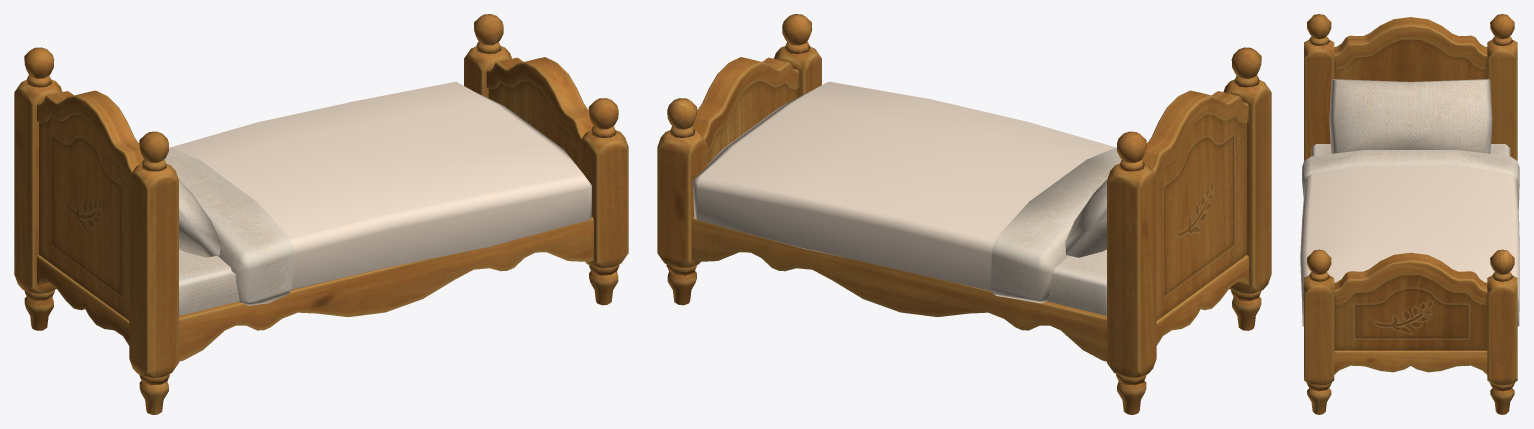
Rendered from home-bed.glb.
3 views of the same model, side by side, from view 1: azimuth 30°, elevation 25°; view 2: azimuth 150°, elevation 25°; view 3: azimuth 270°, elevation 25° (orthographic). The views are drawn at different scales.
Visible parts, largest first — view 1: BedFrameBottom_low__mReBody-mesh, ComforterBody_low__mReFabric-mesh; view 2: BedFrameBottom_low__mReBody-mesh, ComforterBody_low__mReFabric-mesh; view 3: BedFrameBottom_low__mReBody-mesh, ComforterBody_low__mReFabric-mesh.
Boxes of the visible parts, x1=… form: BedFrameBottom_low__mReBody-mesh: x1=14, y1=14, x2=628, y2=414; ComforterBody_low__mReFabric-mesh: x1=170, y1=81, x2=591, y2=289; BedFrameBottom_low__mReBody-mesh: x1=657, y1=14, x2=1271, y2=414; ComforterBody_low__mReFabric-mesh: x1=692, y1=81, x2=1115, y2=291; BedFrameBottom_low__mReBody-mesh: x1=1302, y1=14, x2=1519, y2=414; ComforterBody_low__mReFabric-mesh: x1=1300, y1=166, x2=1519, y2=326.
Size of the model in its own units: 19.4 by 10.71 by 9.59.
2 materials, 2 textured.
